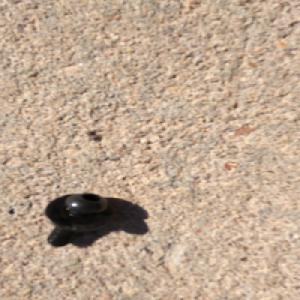BoltWasher: (43, 192, 116, 248)
